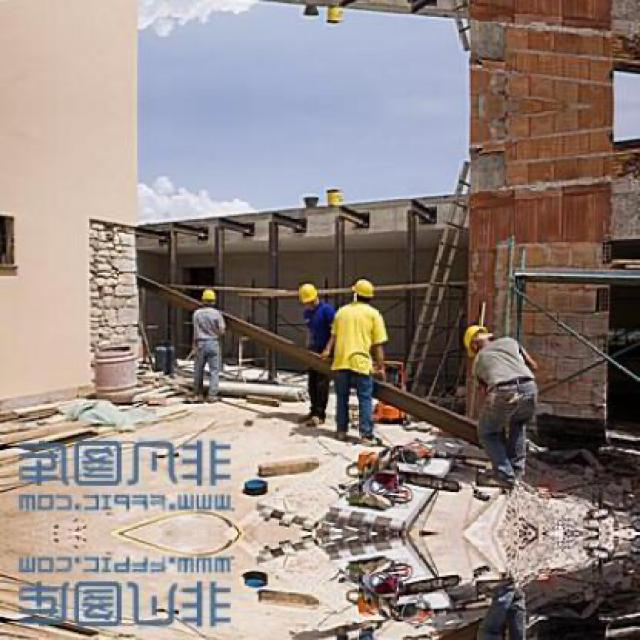helmet: (462, 324, 496, 356), (352, 278, 376, 302), (300, 284, 322, 310), (200, 285, 217, 307)
